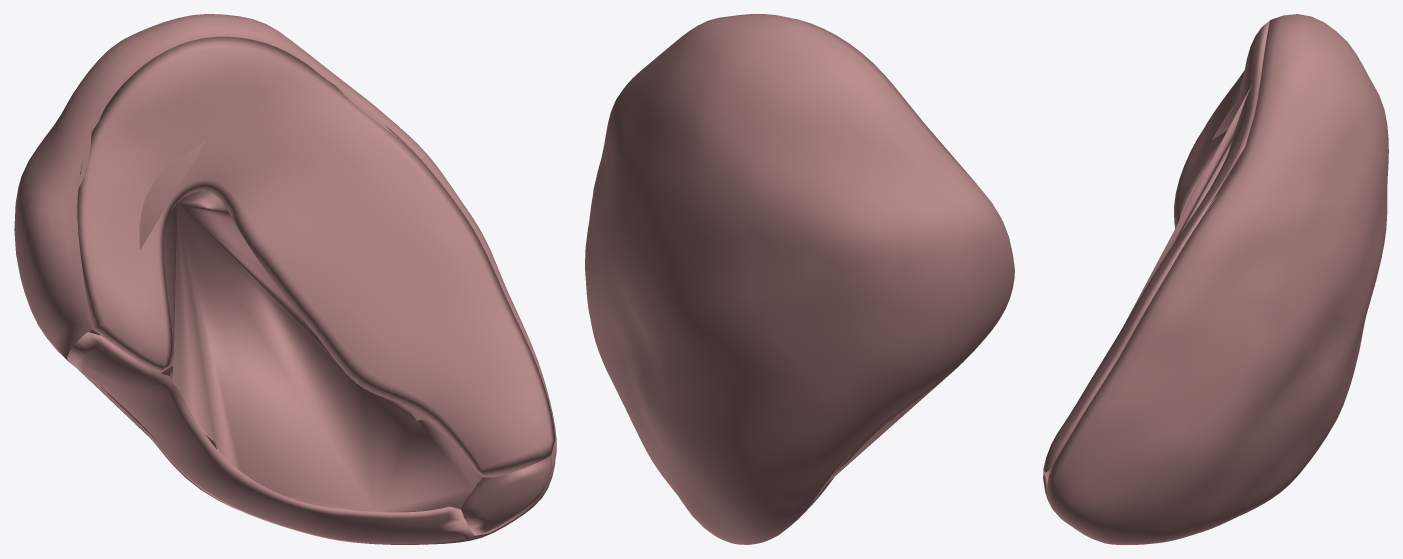
File: vh_f_spleen-80.glb
3 views of the same model, side by side, from view 1: azimuth 30°, elevation 25°; view 2: azimuth 150°, elevation 25°; view 3: azimuth 270°, elevation 25° (orthographic). The views are drawn at different scales.
Parts seen in each view (by area): view 1: VH_F_gastric_surface_of_spleen, VH_F_hilum_of_spleen, VH_F_diaphragmatic_surface_of_spleen, VH_F_renal_surface_of_spleen, VH_F_colic_surface_of_spleen; view 2: VH_F_diaphragmatic_surface_of_spleen, VH_F_renal_surface_of_spleen; view 3: VH_F_diaphragmatic_surface_of_spleen, VH_F_gastric_surface_of_spleen.
Boxes of the visible parts, <box> form: VH_F_gastric_surface_of_spleen: <box>77,36,555,477</box>; VH_F_hilum_of_spleen: <box>163,191,479,512</box>; VH_F_diaphragmatic_surface_of_spleen: <box>14,14,556,544</box>; VH_F_renal_surface_of_spleen: <box>67,332,474,544</box>; VH_F_colic_surface_of_spleen: <box>461,456,552,535</box>; VH_F_diaphragmatic_surface_of_spleen: <box>585,14,1014,544</box>; VH_F_renal_surface_of_spleen: <box>803,361,963,513</box>; VH_F_diaphragmatic_surface_of_spleen: <box>1047,14,1388,544</box>; VH_F_gastric_surface_of_spleen: <box>1043,20,1269,472</box>.
Size of the model in its own units: 0.0896 by 0.1023 by 0.0709.
